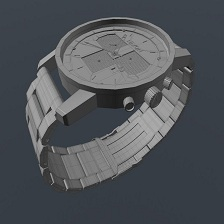Watch: (16, 20, 200, 191)
